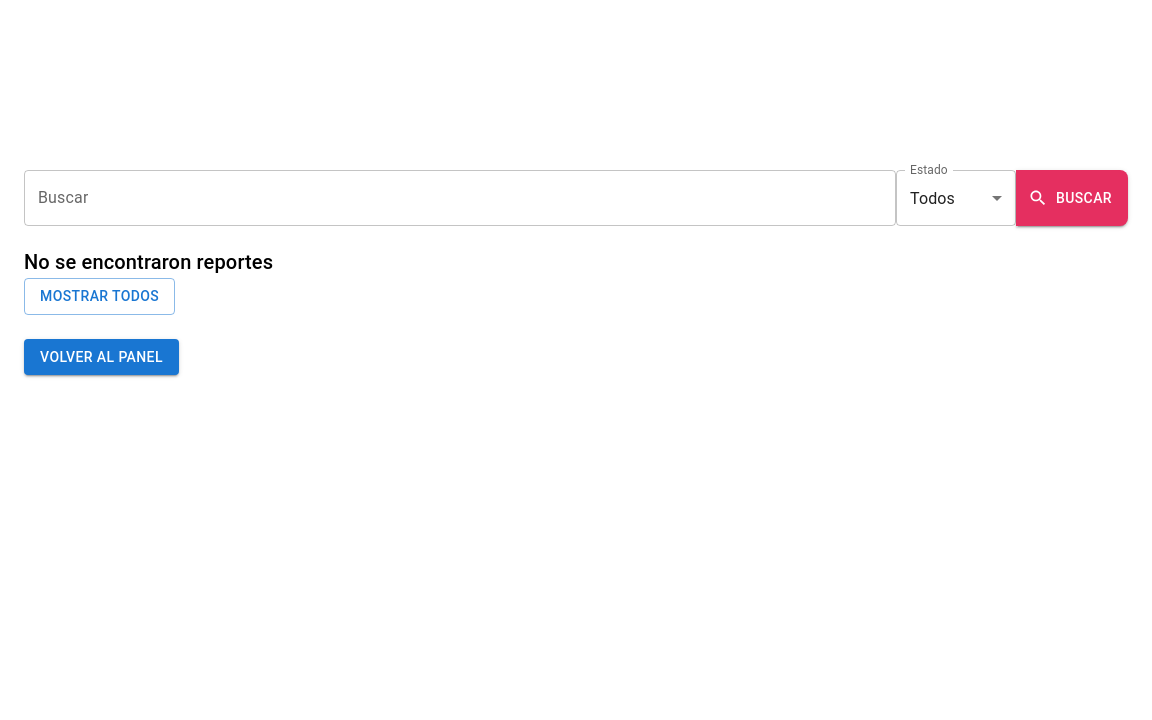
Test case: Reportes Component › shows a snackbar when no search results are found
Step 1. Type "XYZ_NO_EXISTE" into the field labelled "Buscar" → (460, 198), box x1=24 y1=170 x2=896 y2=226
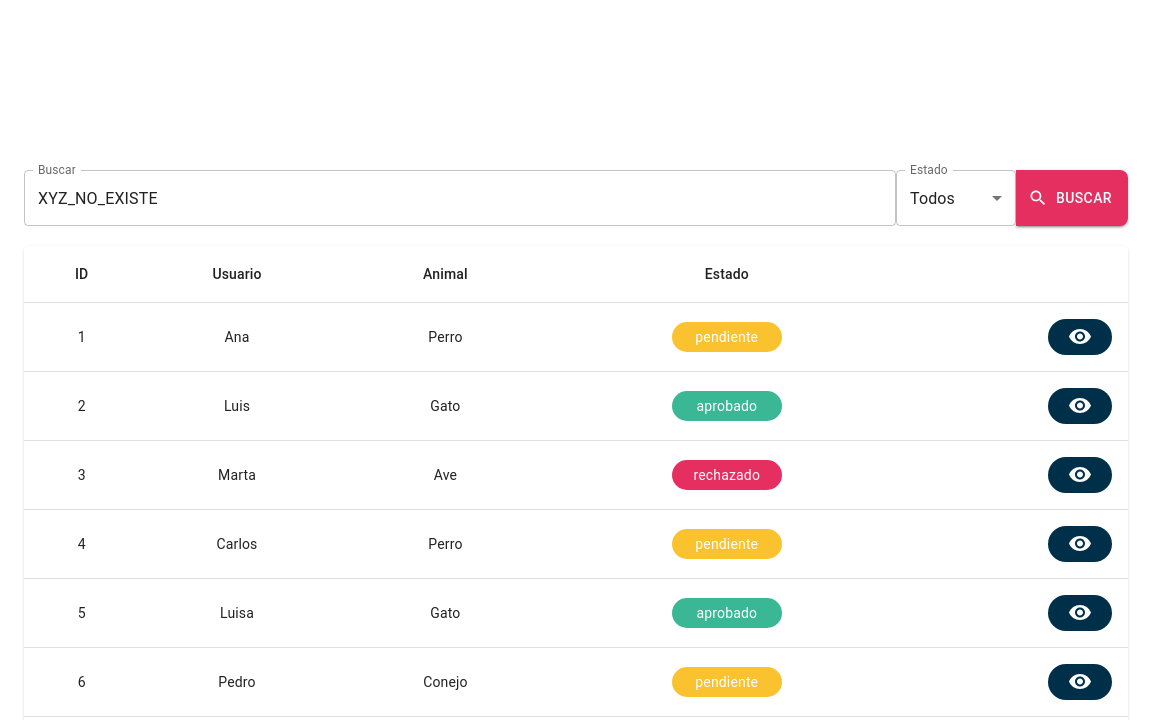
Step 2. Click the button "Buscar" → (1072, 198), box x1=1016 y1=170 x2=1128 y2=226
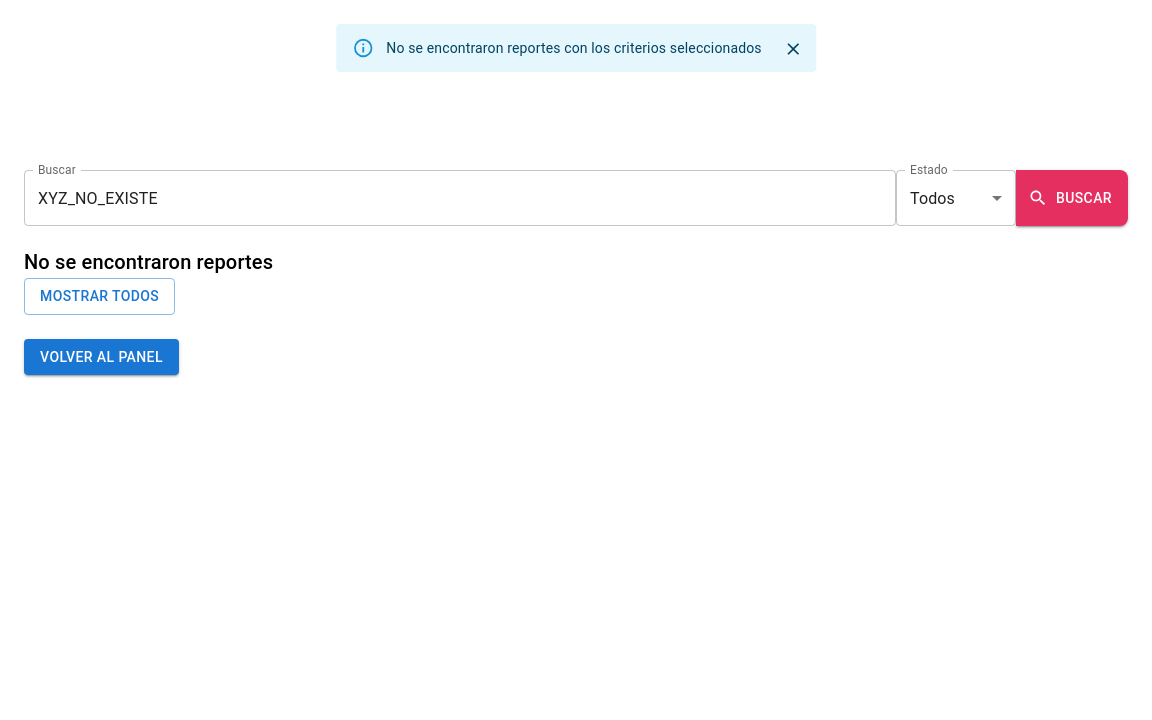
Expected: the text "No se encontraron reportes con los criterios seleccionados" is shown, x1=386 y1=40 x2=762 y2=56
